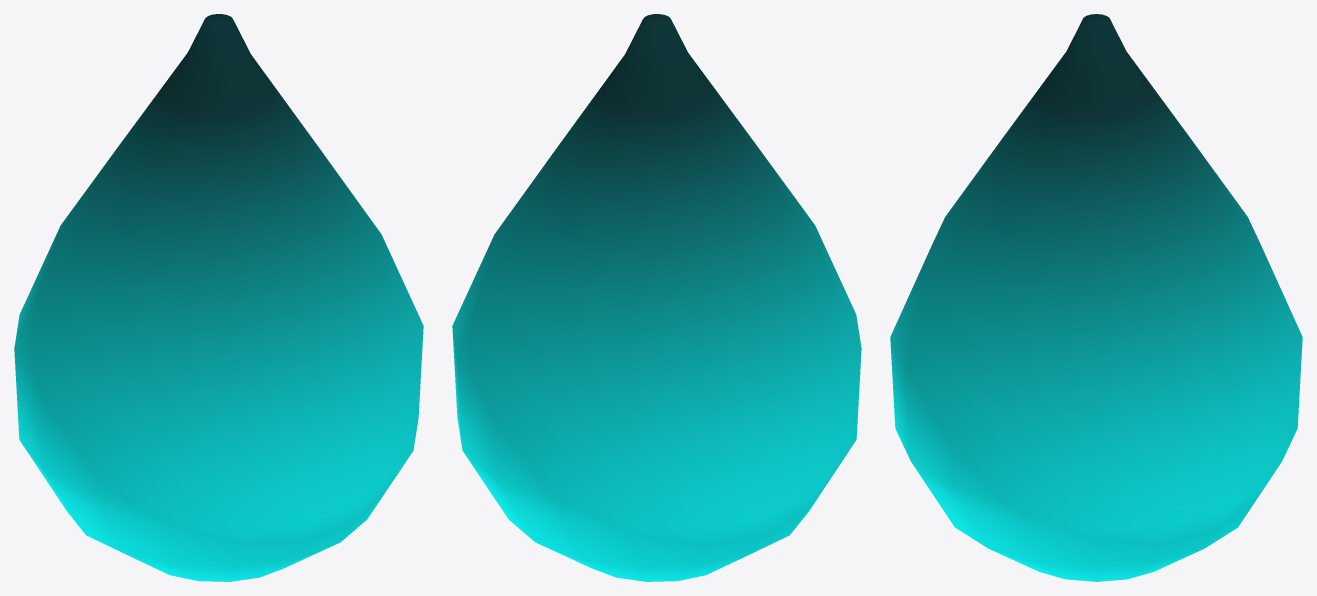
The model's file is WaterDrop_95.glb.
3 renders of one model, left to right at view 1: azimuth 30°, elevation 25°; view 2: azimuth 150°, elevation 25°; view 3: azimuth 270°, elevation 25°, orthographic.
Visible parts, largest first — view 1: WaterDrop_95; view 2: WaterDrop_95; view 3: WaterDrop_95.
Boxes of the visible parts, x1=… form: WaterDrop_95: x1=14, y1=14, x2=423, y2=581; WaterDrop_95: x1=452, y1=14, x2=861, y2=581; WaterDrop_95: x1=890, y1=14, x2=1302, y2=581.
Size of the model in its own units: 0.5885 by 0.8459 by 0.5885.
Materials: 1 (1 with a texture image).
